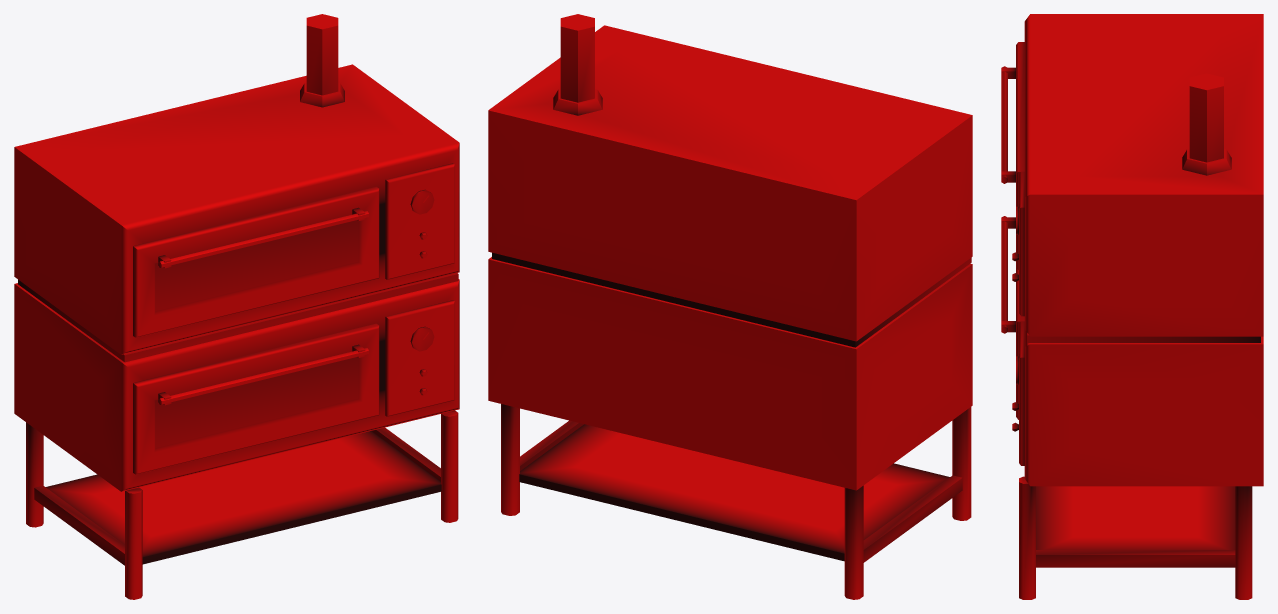
Rendered from CI_Bakery_DeckOven.glb.
The picture shows the model from 3 angles, left to right: view 1: azimuth 30°, elevation 25°; view 2: azimuth 150°, elevation 25°; view 3: azimuth 270°, elevation 25°; orthographic projection. The views are drawn at different scales.
Visible parts, largest first — view 1: CI_Bakery_DeckOven; view 2: CI_Bakery_DeckOven; view 3: CI_Bakery_DeckOven.
Boxes of the visible parts, x1,y1,x2,y2 form: CI_Bakery_DeckOven: (14, 14, 459, 599); CI_Bakery_DeckOven: (488, 14, 972, 599); CI_Bakery_DeckOven: (1001, 14, 1263, 599).
Bounding box in the file's own units: 1.5 × 1.9 × 0.9221.
